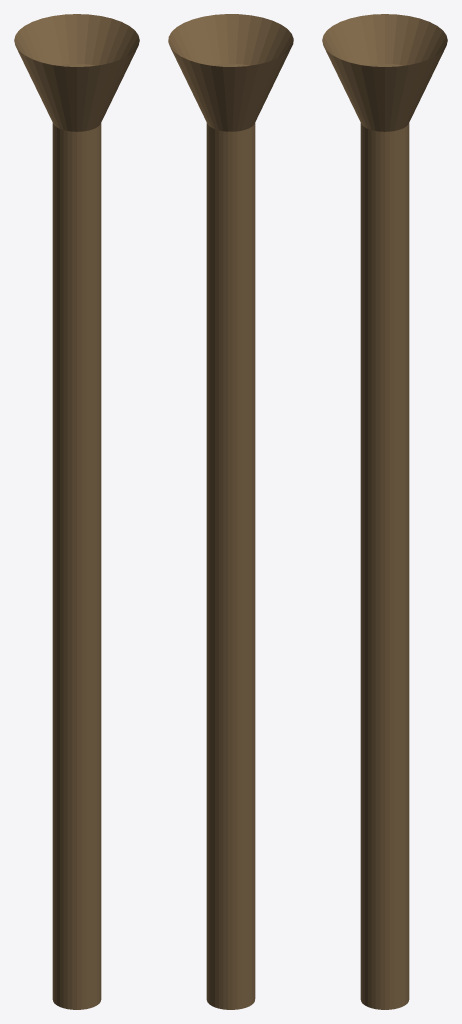
Rendered from Torch.fbx.
3 views of the same model, side by side, from view 1: azimuth 90°, elevation 25°; view 2: azimuth 150°, elevation 25°; view 3: azimuth 270°, elevation 25° (orthographic).
Visible parts, largest first — view 1: Cylinder.002; view 2: Cylinder.002; view 3: Cylinder.002.
Part boxes in pixels (<box>): Cylinder.002: <box>14,14,139,1009</box>; Cylinder.002: <box>168,14,293,1009</box>; Cylinder.002: <box>322,14,447,1009</box>.
Bounding box in the file's own units: 0.2595 × 2.18 × 0.2595.
